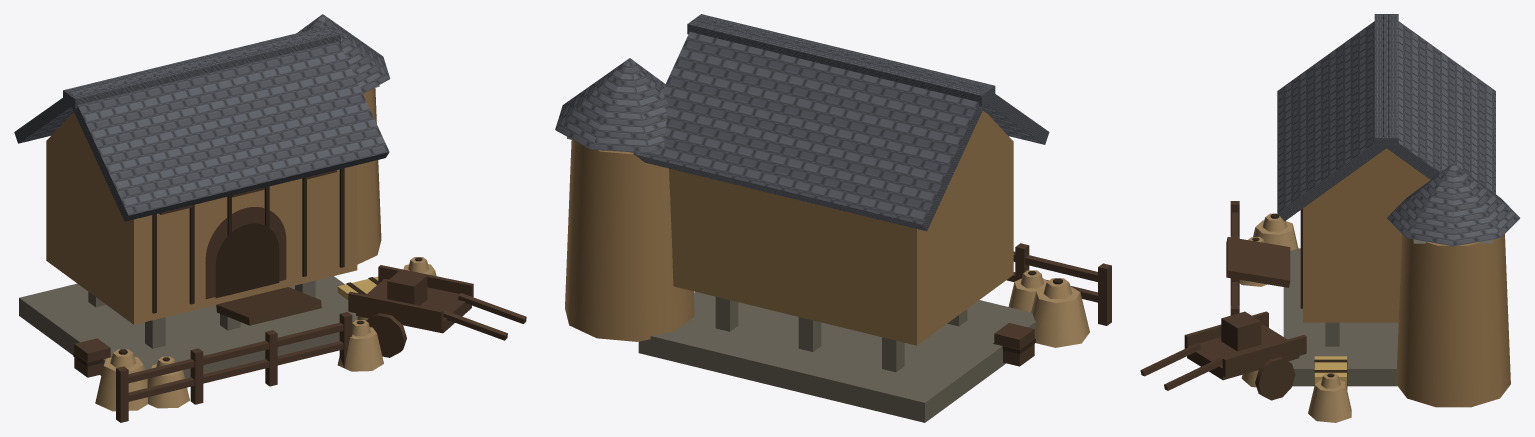
The model's file is granary-L2.glb.
The picture shows the model from 3 angles, left to right: view 1: azimuth 30°, elevation 25°; view 2: azimuth 150°, elevation 25°; view 3: azimuth 270°, elevation 25°; orthographic projection. The views are drawn at different scales.
Parts seen in each view (by area): view 1: building-granary-L2; view 2: building-granary-L2; view 3: building-granary-L2.
Boxes of the visible parts, x1,y1,x2,y2 form: building-granary-L2: [14, 14, 526, 422]; building-granary-L2: [555, 14, 1111, 422]; building-granary-L2: [1140, 14, 1519, 422].
Size of the model in its own units: 2.55 by 1.69 by 2.31.
Materials: 8 (1 with a texture image).
